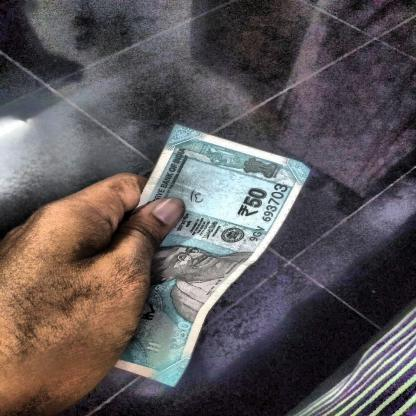Rs50: (232, 183, 273, 222)
